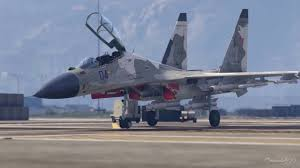maybay_muctieu: (24, 20, 300, 128)
